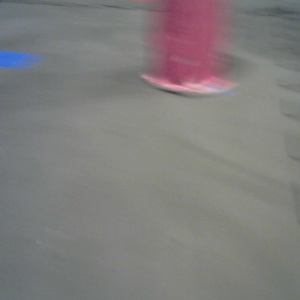Right: (144, 1, 230, 94)
